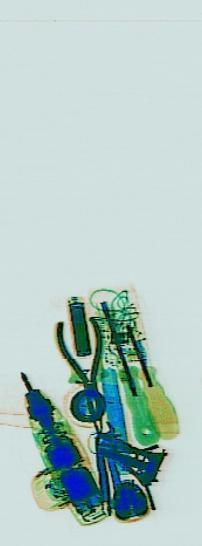Pliers: (52, 276, 118, 455)
Wrench: (95, 413, 127, 514)
